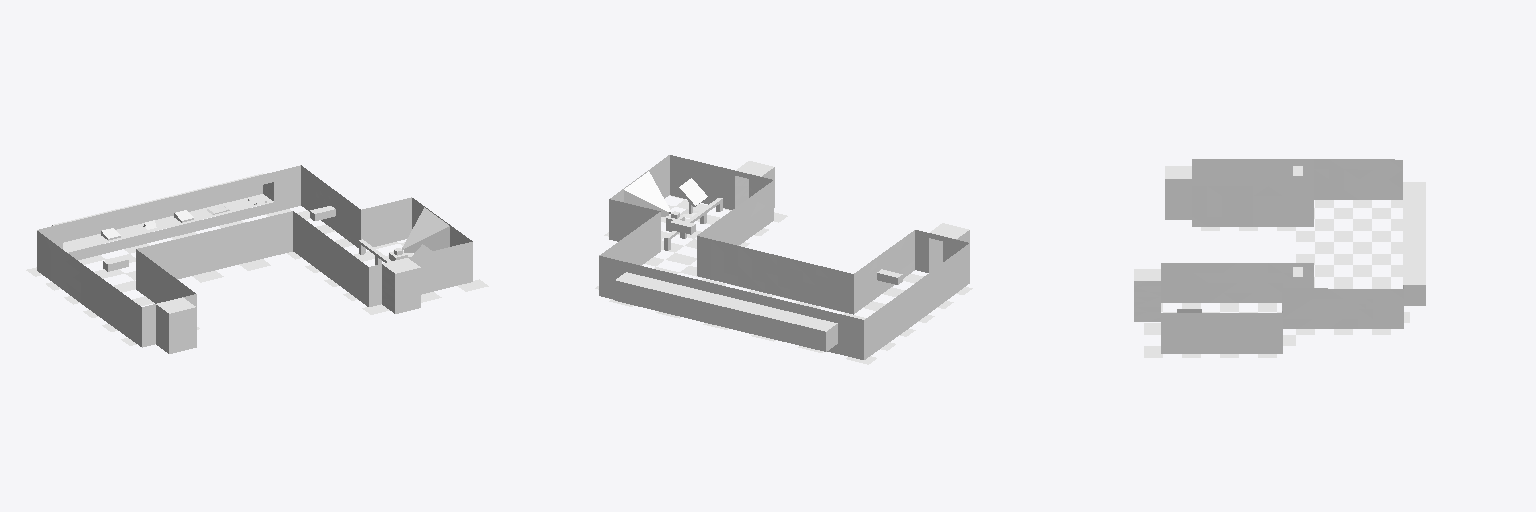
File: _TOY.obj
3 renders of one model, left to right at view 1: azimuth 30°, elevation 25°; view 2: azimuth 150°, elevation 25°; view 3: azimuth 270°, elevation 25°, orthographic.
Parts seen in each view (by area): view 1: _TOY; view 2: _TOY; view 3: _TOY.
Boxes of the visible parts, box(x1,y1,x2,y2) form: _TOY: box(26, 165, 488, 353); _TOY: box(595, 155, 972, 364); _TOY: box(1134, 159, 1425, 357).
Bounding box in the file's own units: 253 × 30.69 × 193.